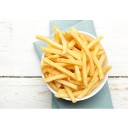frenchfries: (36, 24, 111, 97)
